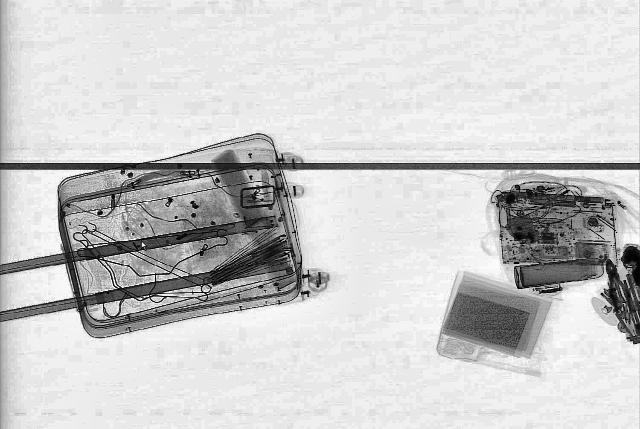Pliers: (598, 259, 638, 315)
